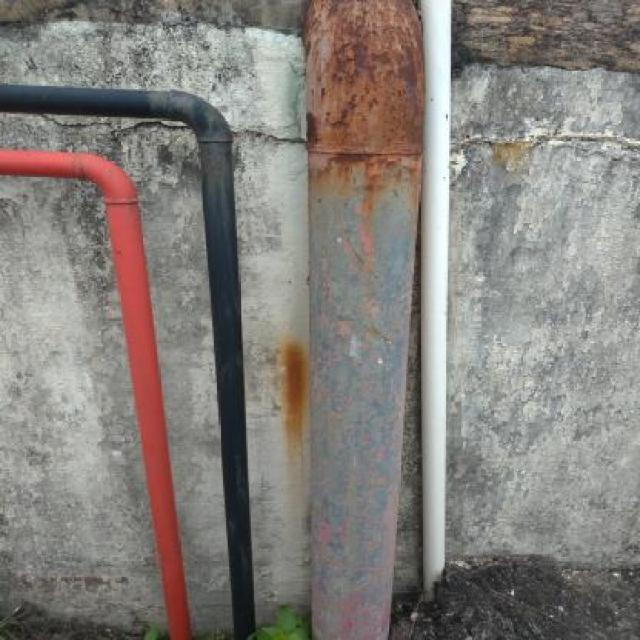gas: (10, 86, 254, 639), (6, 148, 190, 640), (306, 22, 425, 637), (422, 18, 452, 575)
